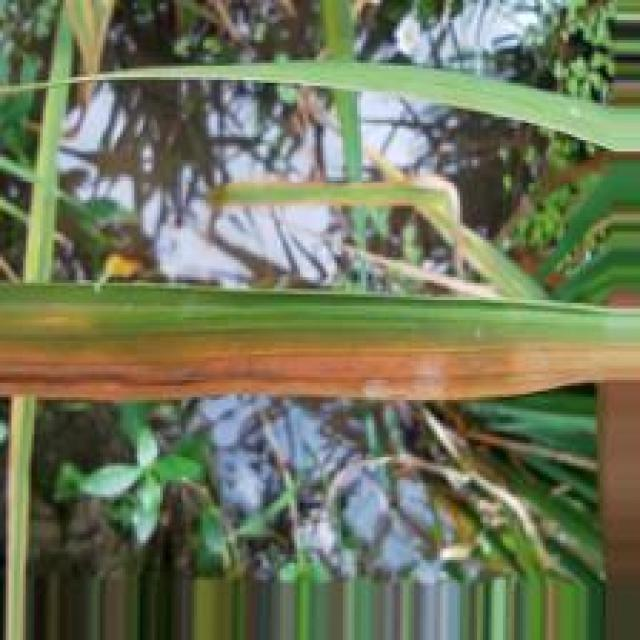Bacterial_Leaf_Blight: (0, 336, 640, 401)
